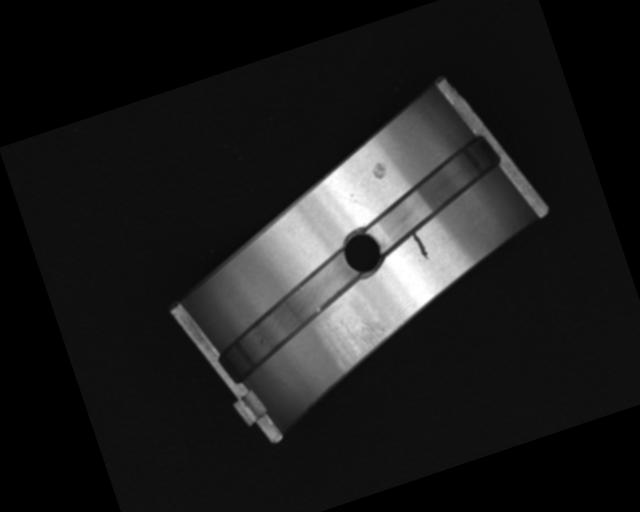bruise: (368, 160, 390, 183)
gap: (203, 249, 377, 379), (351, 134, 513, 250)
hole: (338, 226, 388, 277)
nick: (410, 229, 431, 264)
scratch: (317, 299, 397, 384)
